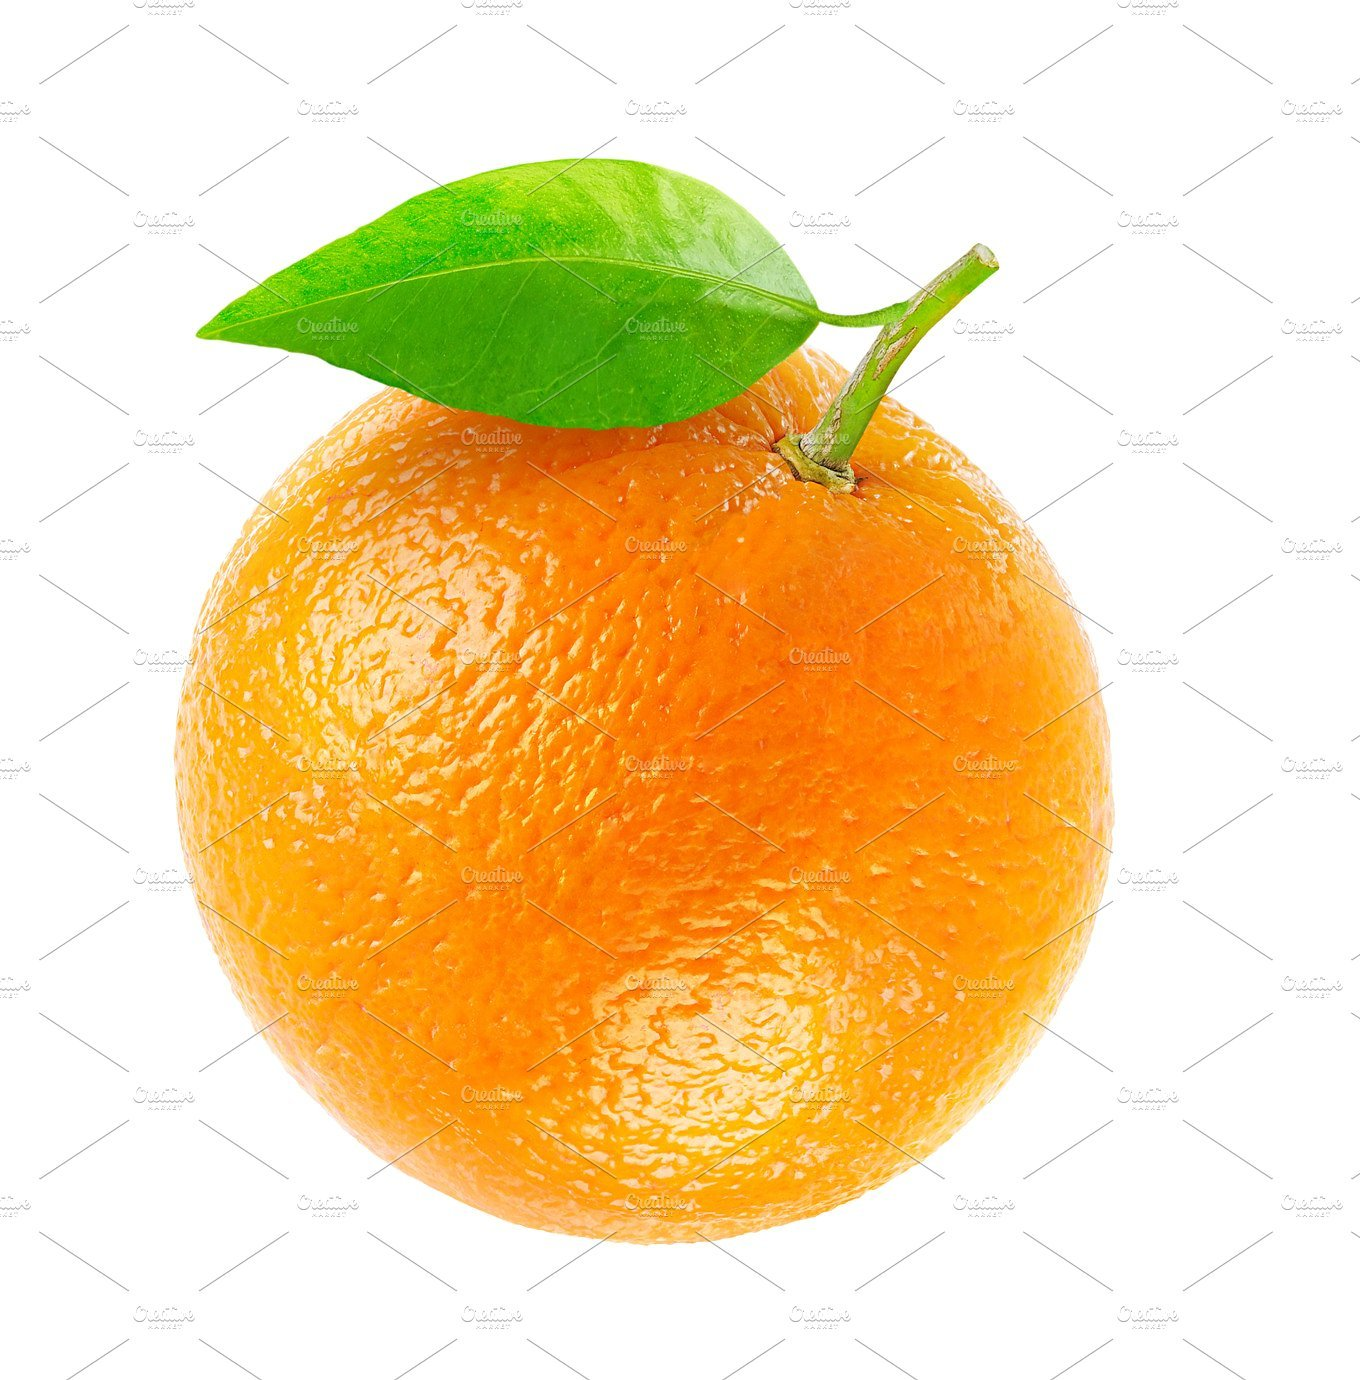orange: (146, 361, 1112, 1254)
